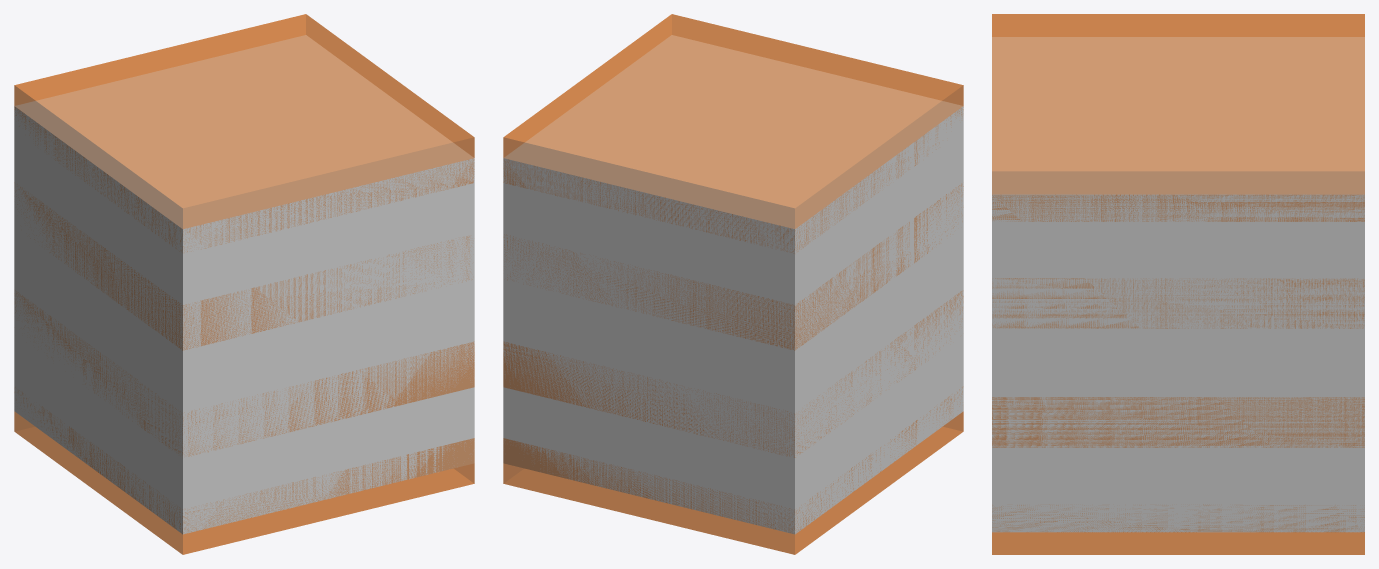
Rendered from cryptostore.glb.
The picture shows the model from 3 angles, left to right: view 1: azimuth 30°, elevation 25°; view 2: azimuth 150°, elevation 25°; view 3: azimuth 270°, elevation 25°; orthographic projection. The views are drawn at different scales.
Parts seen in each view (by area): view 1: stack; view 2: stack; view 3: stack.
Boxes of the visible parts, x1,y1,x2,y2 form: stack: (14,14,474,554); stack: (503,14,963,554); stack: (992,14,1364,554).
Size of the model in its own units: 2 by 2.27 by 2.
